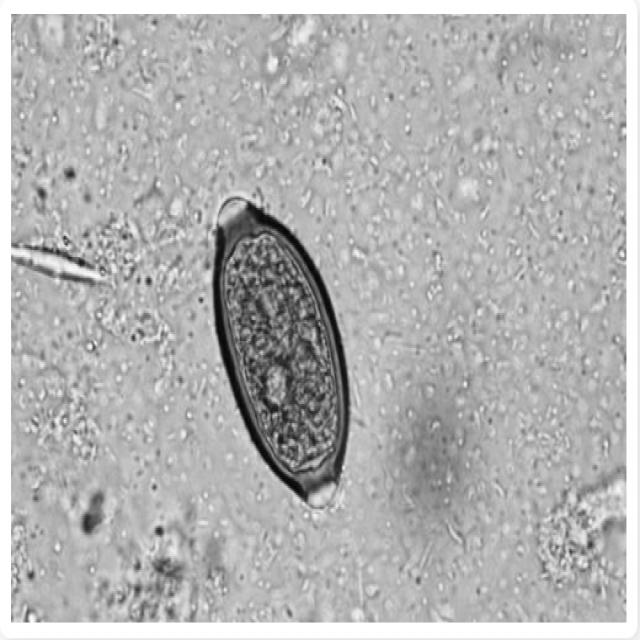Trichuris Trichiura: (202, 179, 364, 512)
